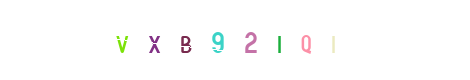2: (195, 0, 275, 80)
9: (192, 0, 272, 80)
B: (178, 0, 258, 80)
I: (209, 0, 289, 80), (239, 0, 319, 80)
Q: (238, 0, 318, 80)
V: (82, 0, 162, 80)
X: (132, 0, 212, 80)
